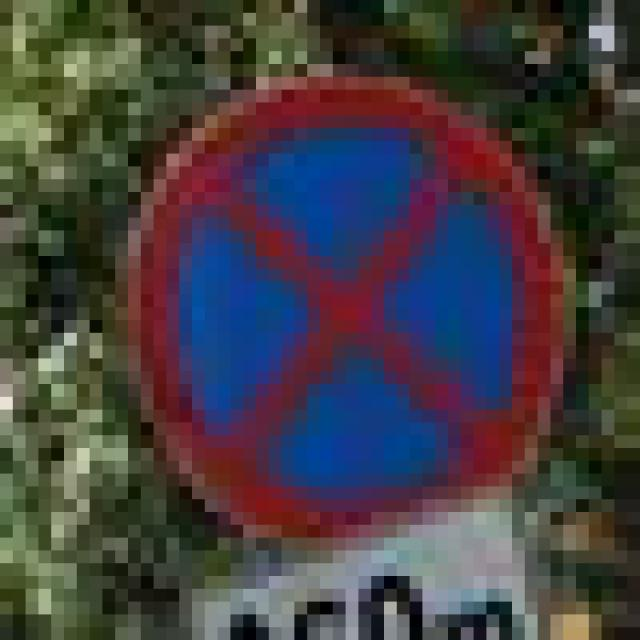no_parking: (102, 64, 550, 525)
